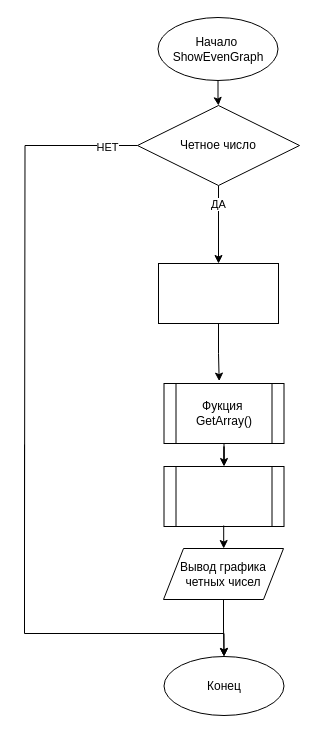
Some shapes in this 317 by 733 pixel diagram are drawn without their labels. The centre of each missing label's shape, as x and y in pixels:
"Заполнение массива" goes at point 218,293.
"Фукция DrawHistogram" goes at point 223,496.
